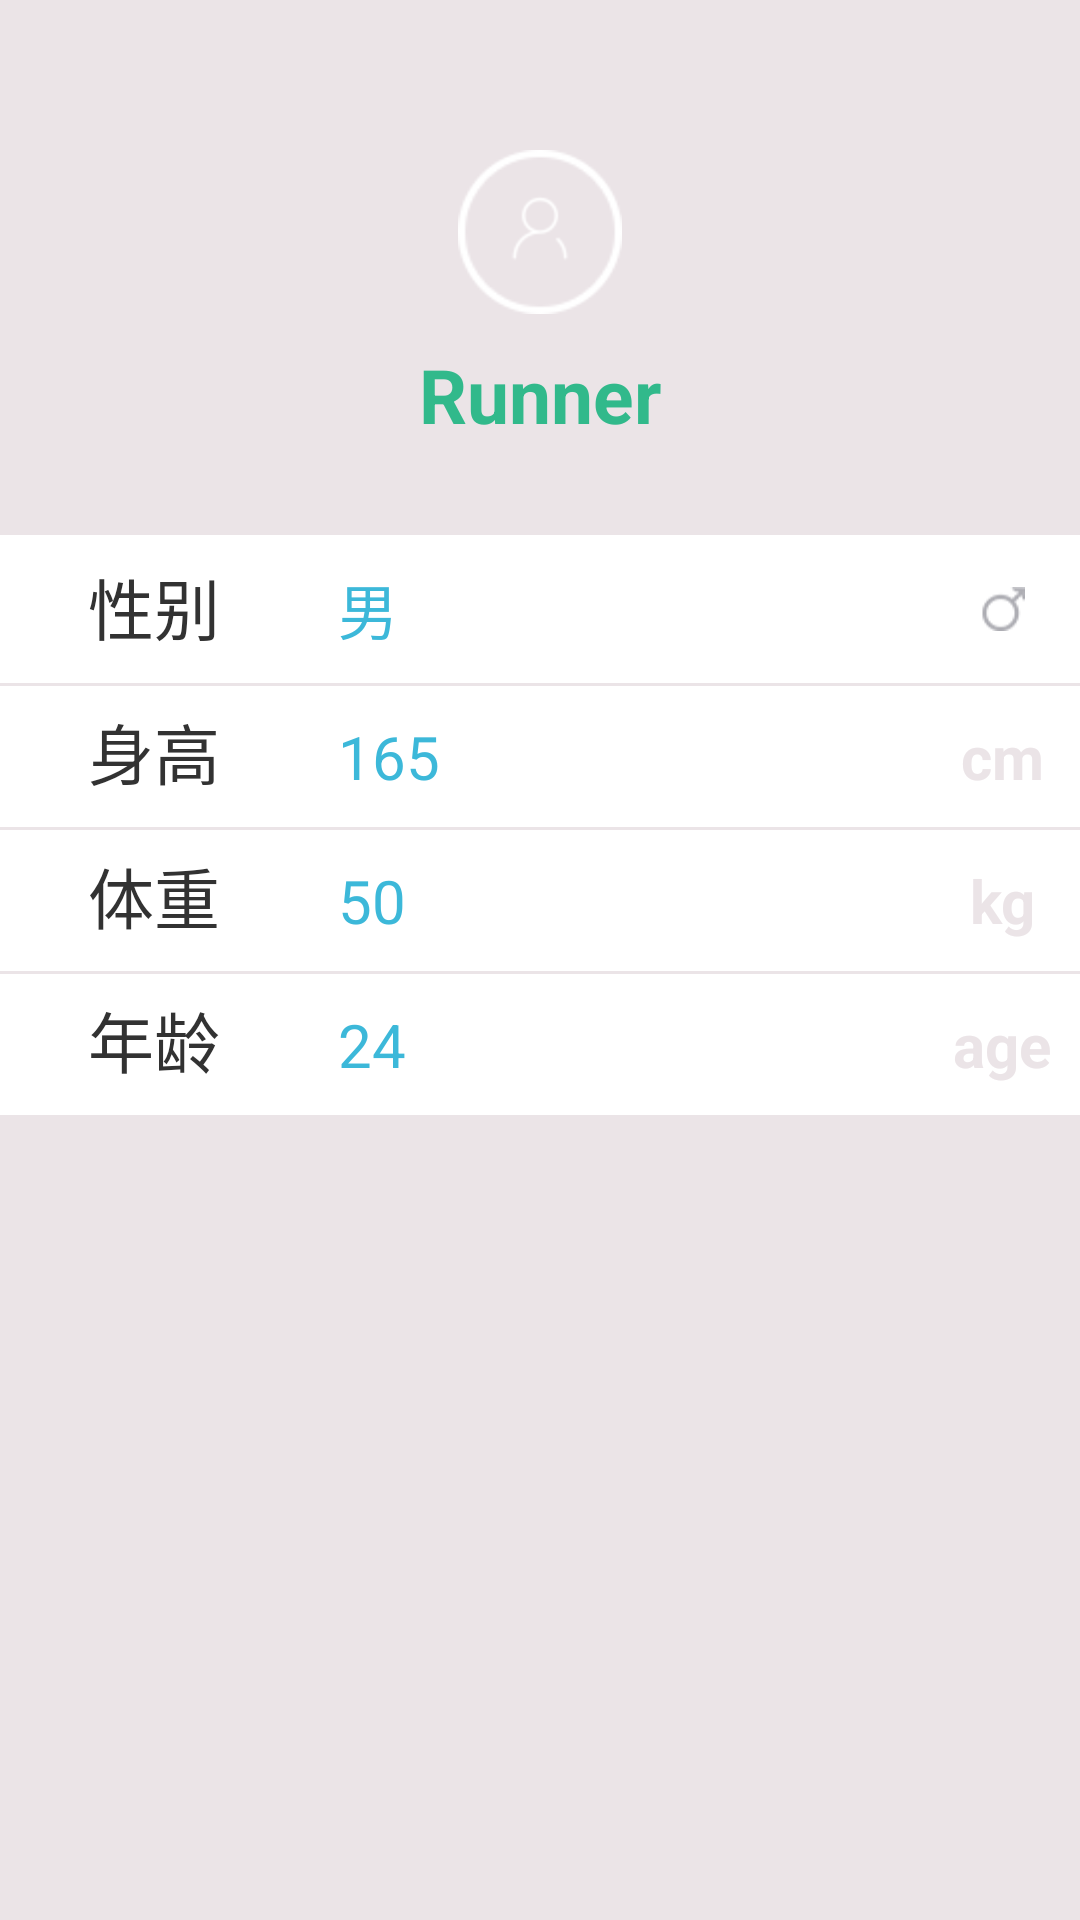

Icons on this 1080px×1920px Android screen, each with its box as (x1, y1, x2, y2):
sex boy: (982, 587, 1025, 631)
